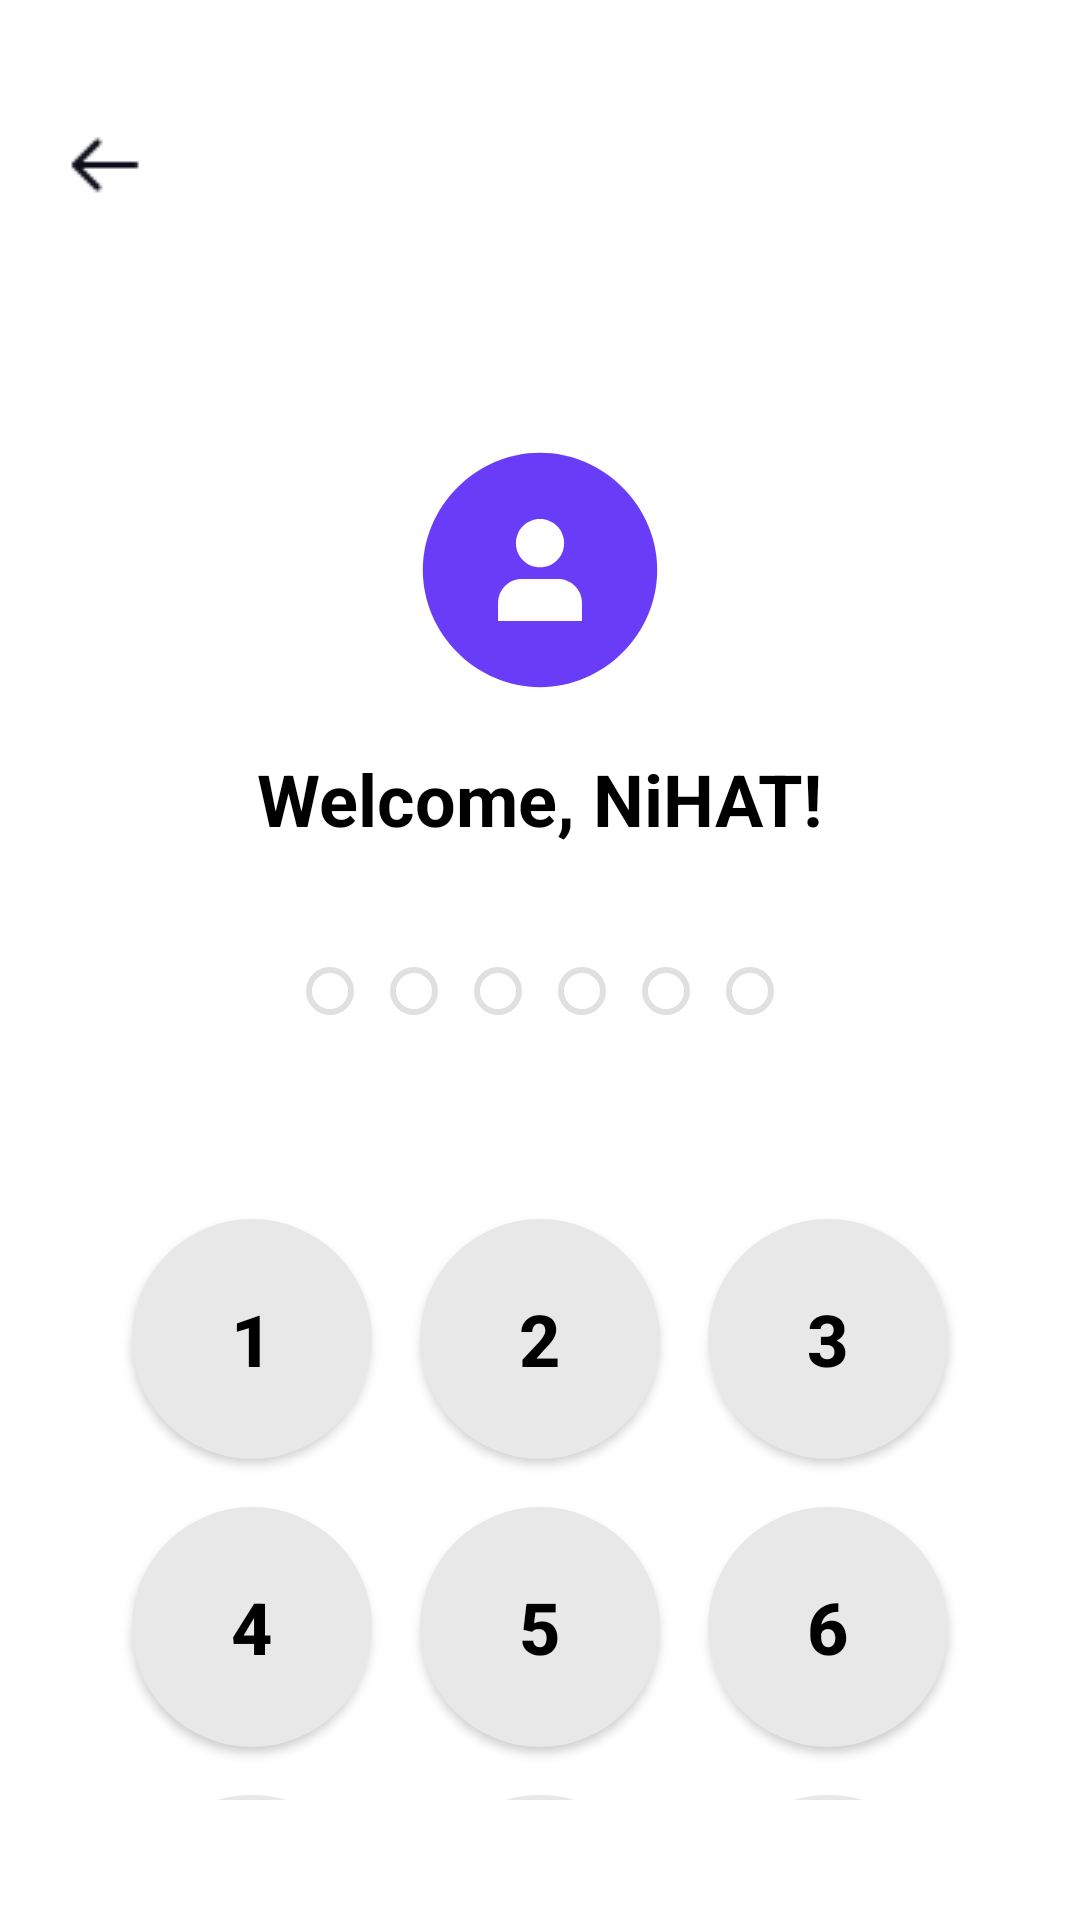

Where icons sit on this 1080x1920 app screen, as box=[x1, y1, x2, y2]:
Back: box=[71, 137, 139, 193]
profile: box=[422, 452, 658, 688]
